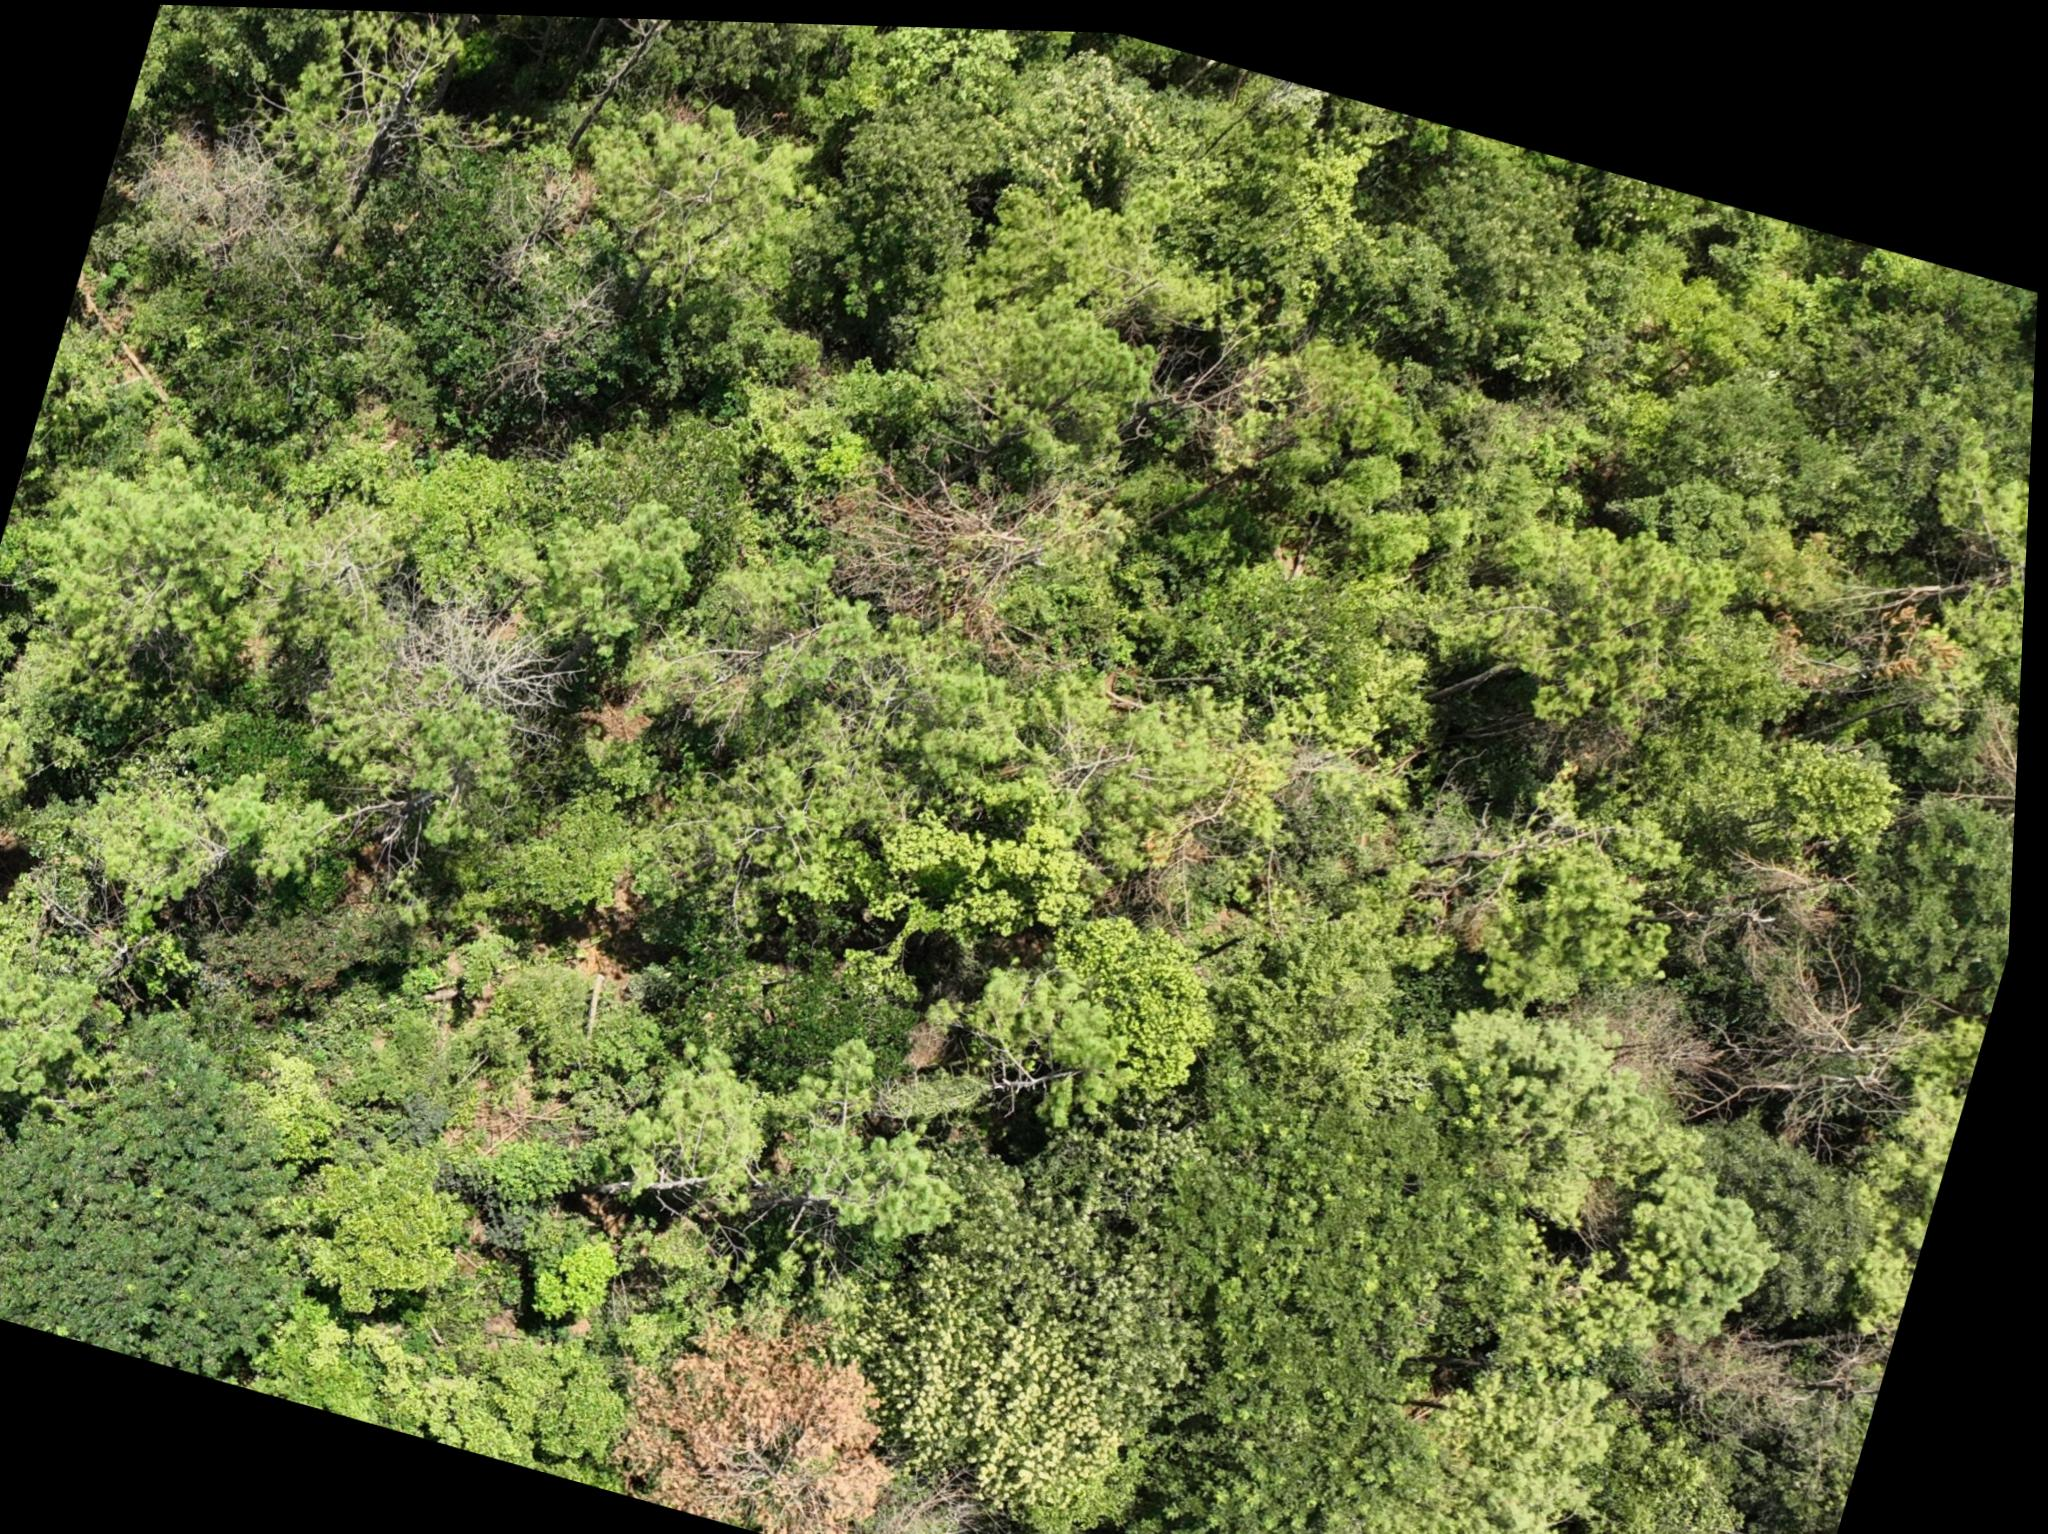dead: (404, 580, 577, 727)
heavy: (624, 1276, 939, 1534), (825, 450, 1055, 653)
